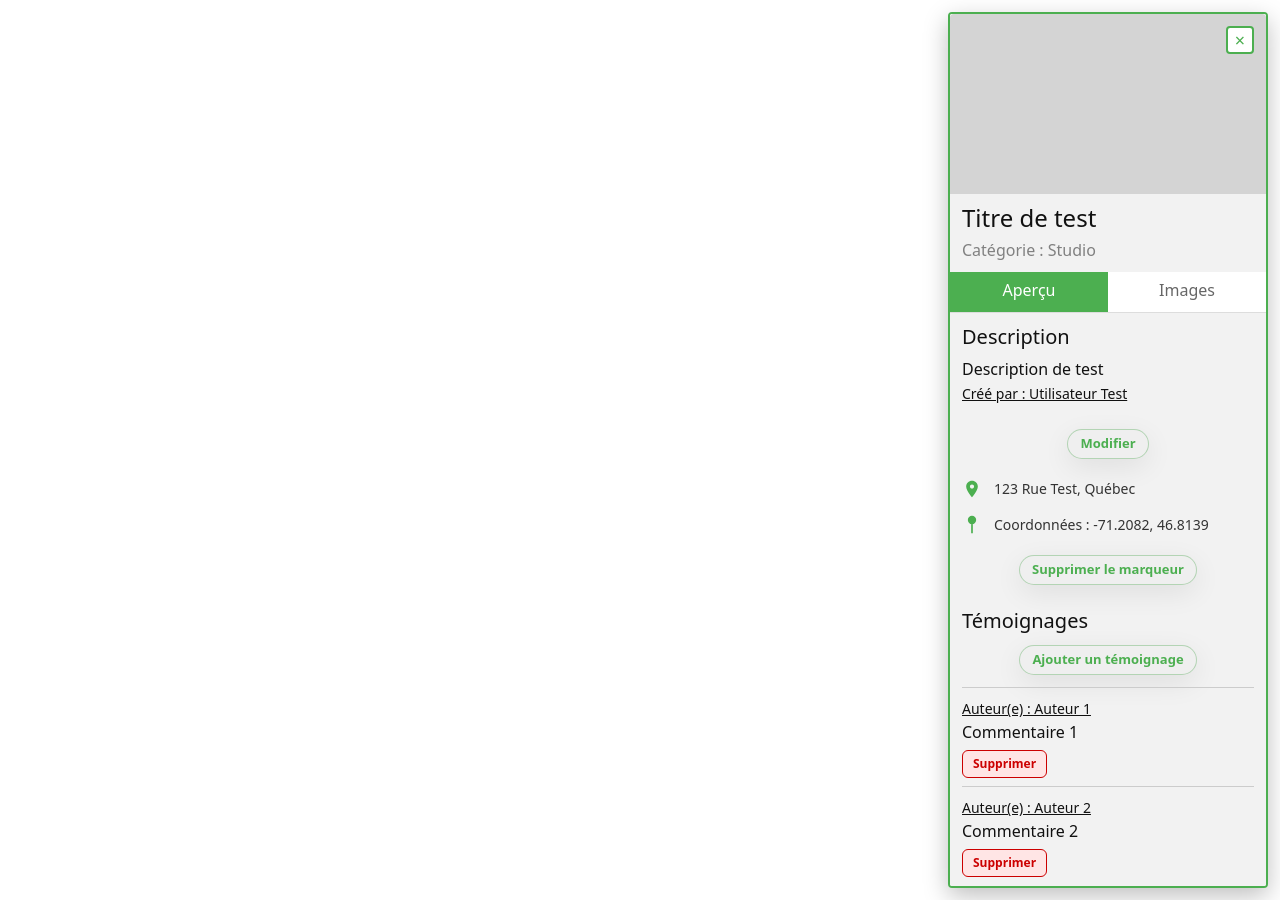
Test: MarqueurPanel.vue › Fonctionnalités d'administration › affiche la confirmation de suppression quand on clique sur supprimer
Step 1. Click the button "Supprimer le marqueur" → (1108, 570), box [1019,555,1197,585]
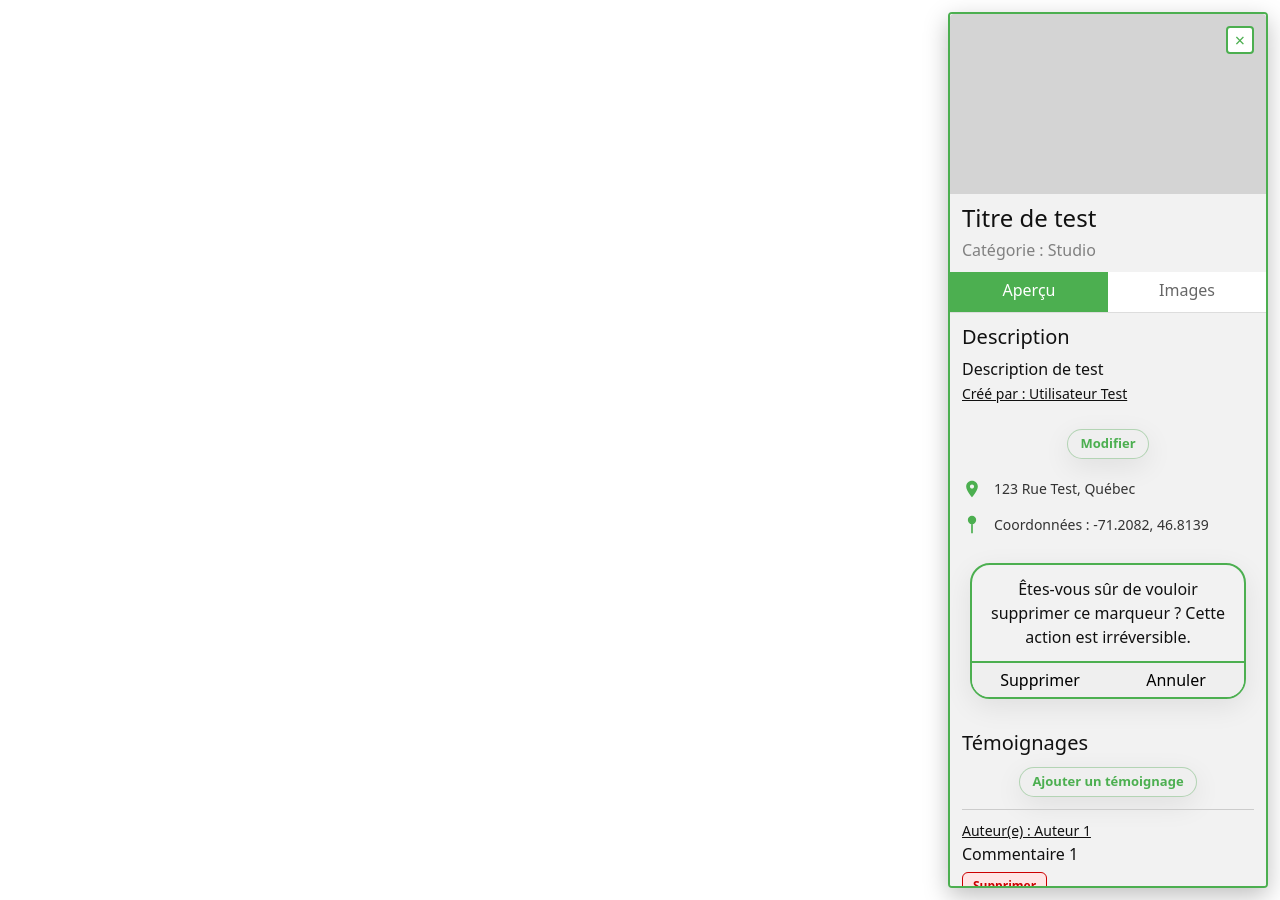
Expected: the element with class "delete-confirmation" is shown, [970,563,1246,699]
Expected: the text "Êtes-vous sûr de vouloir supprimer ce marqueur" is shown, [991,578,1225,648]
